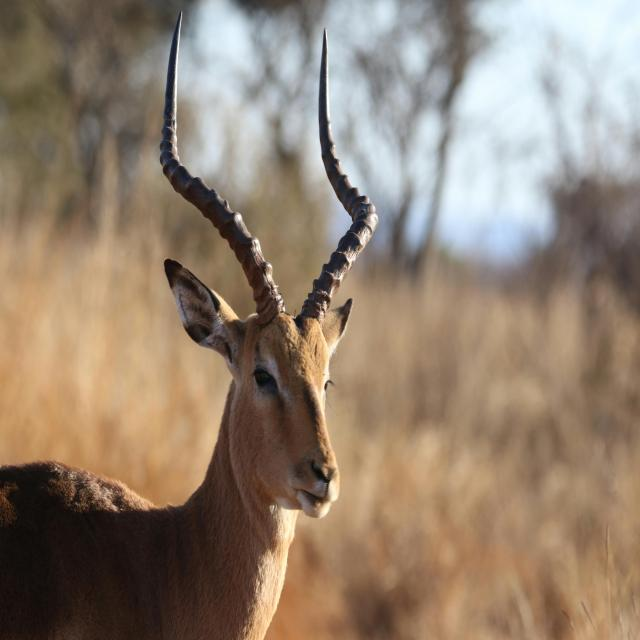Antelope: (0, 18, 378, 640)
